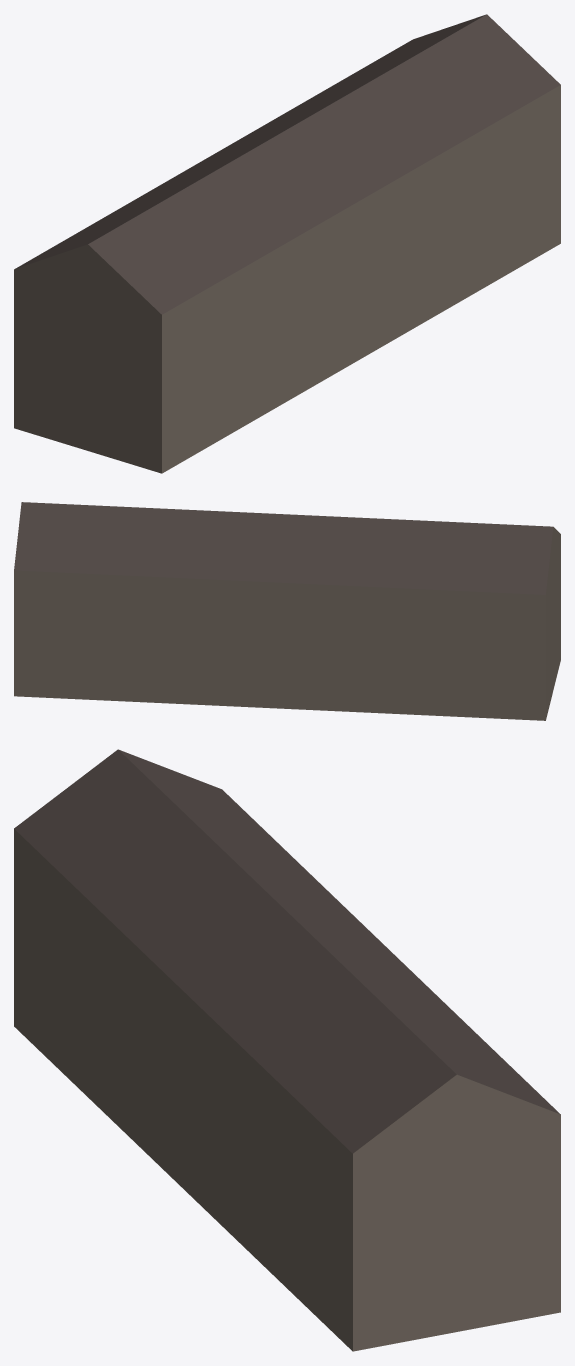
3 renders of one model, top to bottom at view 1: azimuth 30°, elevation 25°; view 2: azimuth 150°, elevation 25°; view 3: azimuth 270°, elevation 25°, orthographic. The views are drawn at different scales.
Parts seen in each view (by area): view 1: HP-w373833603; view 2: HP-w373833603; view 3: HP-w373833603.
Part boxes in pixels (<box>): HP-w373833603: <box>14,14,560,473</box>; HP-w373833603: <box>14,502,560,720</box>; HP-w373833603: <box>14,749,560,1351</box>.
Size of the model in its own units: 35.55 by 11.71 by 22.55.
